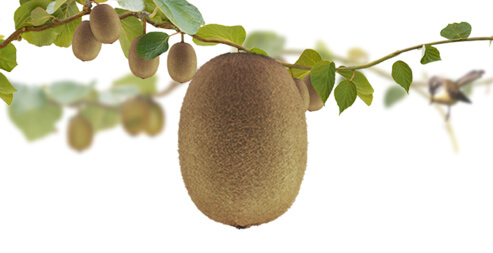kiwi: (178, 52, 308, 228), (128, 35, 160, 80), (167, 41, 197, 86), (89, 4, 122, 44), (72, 20, 101, 61), (303, 72, 324, 111), (292, 77, 309, 112)
